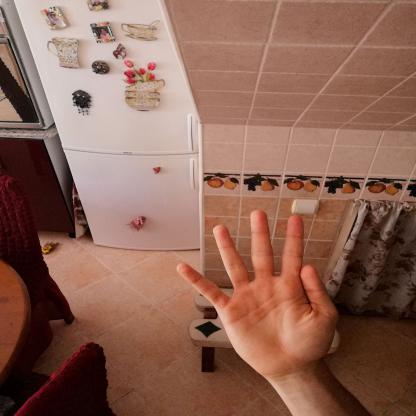SHEEN: (164, 201, 348, 387)
